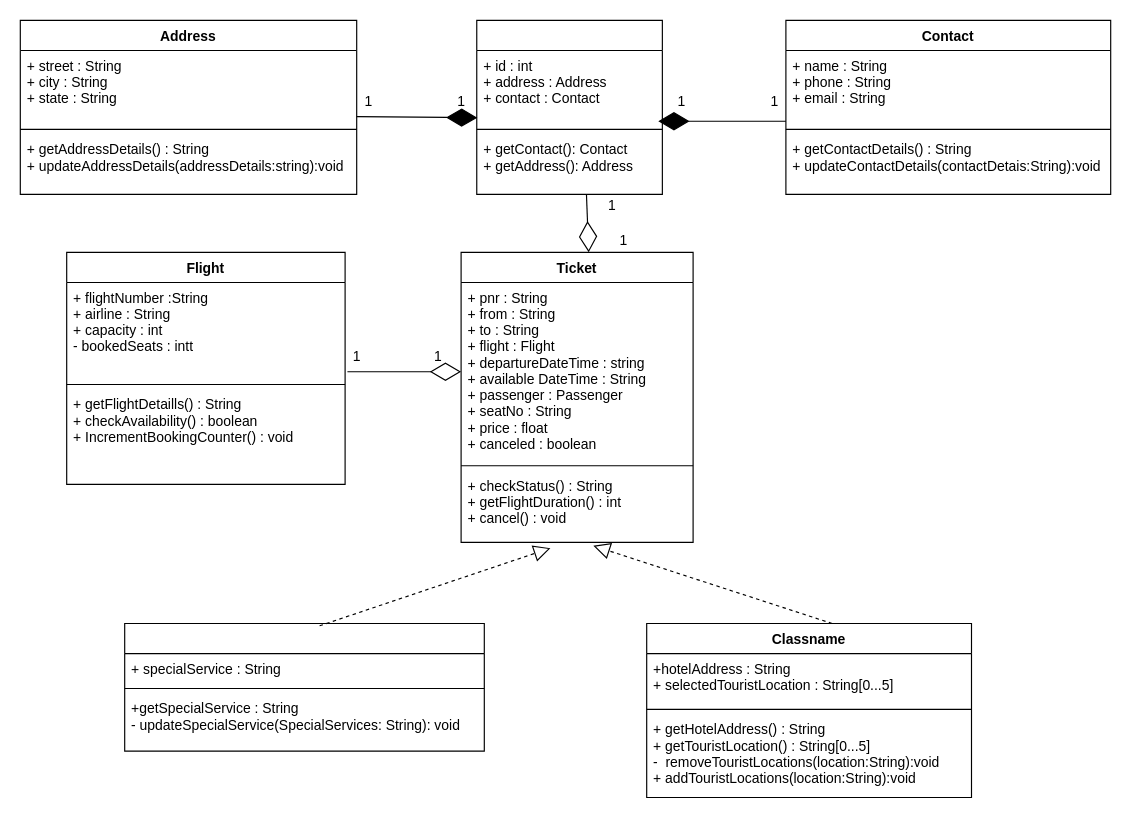
Some shapes in this 1131 by 821 pixel diagram are drawn without their labels. The shapes that lost their labels are listed below. From the top down, each one's box as (x1, y1, x2, y2) in pixels, then its label:
(476, 19, 662, 194): Passrnger
(124, 622, 484, 751): RegularTicket
